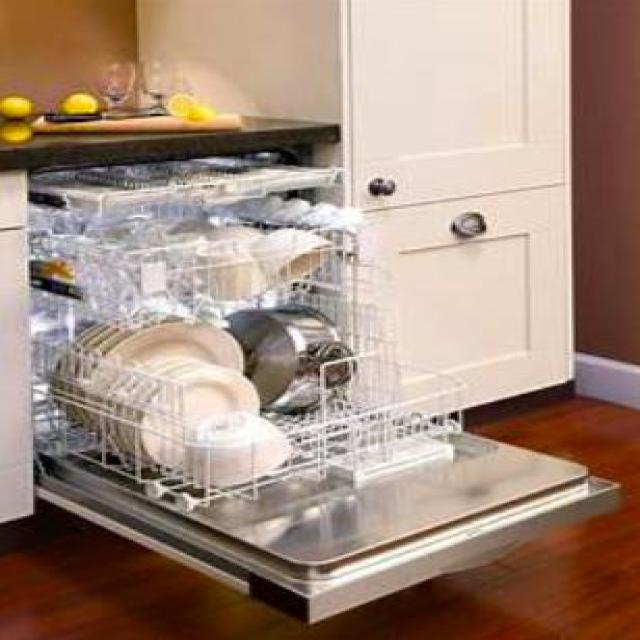dishwasher: (25, 143, 619, 622)
